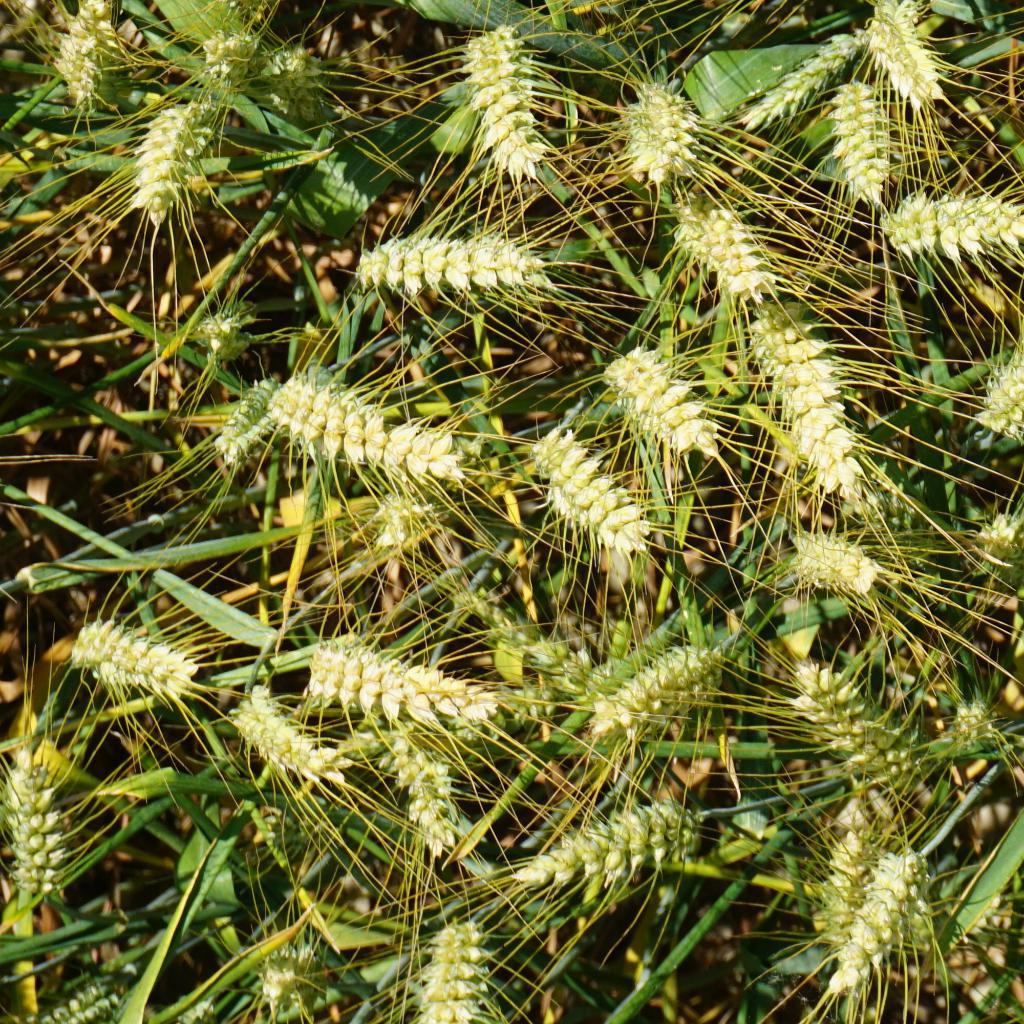0-0: (737, 290, 877, 512), (269, 374, 471, 496), (288, 623, 504, 732), (444, 15, 552, 192), (60, 610, 216, 730), (833, 836, 946, 1001), (574, 619, 723, 740), (337, 211, 534, 299), (663, 186, 797, 315), (585, 342, 728, 459), (870, 171, 1024, 271), (527, 430, 647, 548), (790, 651, 898, 781), (226, 678, 346, 792), (837, 0, 947, 124), (124, 88, 218, 223), (513, 811, 695, 879), (614, 72, 710, 185), (450, 593, 576, 675), (781, 528, 893, 610), (745, 30, 850, 116), (823, 79, 888, 216), (378, 740, 462, 842), (423, 916, 502, 1015), (0, 767, 62, 893), (50, 0, 121, 99), (971, 333, 1024, 451), (245, 945, 330, 1008), (817, 825, 860, 940), (23, 982, 142, 1020), (966, 507, 1024, 584), (368, 495, 429, 559), (219, 379, 267, 456), (853, 486, 922, 539), (268, 46, 323, 105), (198, 26, 267, 73), (196, 310, 249, 361), (947, 691, 990, 741), (905, 900, 939, 963)
